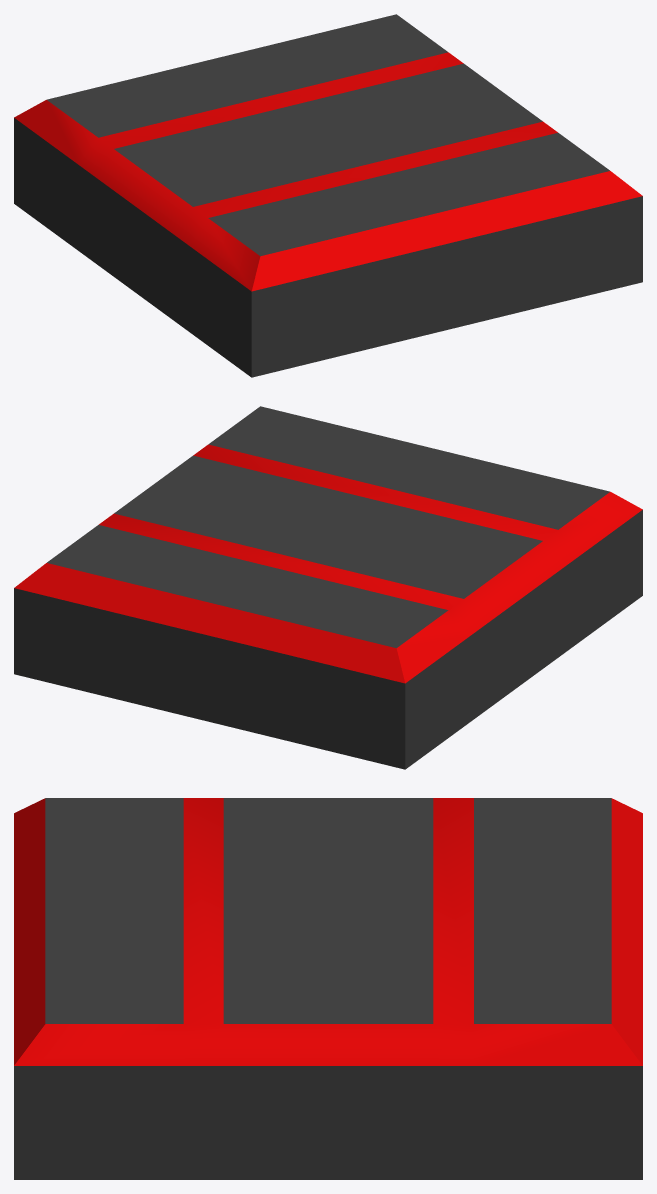
File: Allaround Plaftom.fbx
The picture shows the model from 3 angles, top to bottom: view 1: azimuth 30°, elevation 25°; view 2: azimuth 150°, elevation 25°; view 3: azimuth 270°, elevation 25°; orthographic projection. The views are drawn at different scales.
Visible parts, largest first — view 1: polySurface5; view 2: polySurface5; view 3: polySurface5.
Part boxes in pixels (<box>): polySurface5: <box>14,14,642,377</box>; polySurface5: <box>14,406,642,769</box>; polySurface5: <box>14,798,642,1179</box>.
Bounding box in the file's own units: 5.7 × 1.5 × 6.
